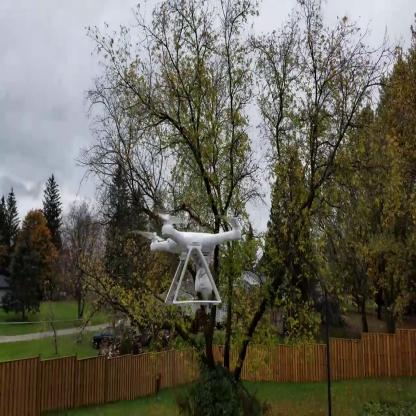drone: (132, 202, 256, 290)
